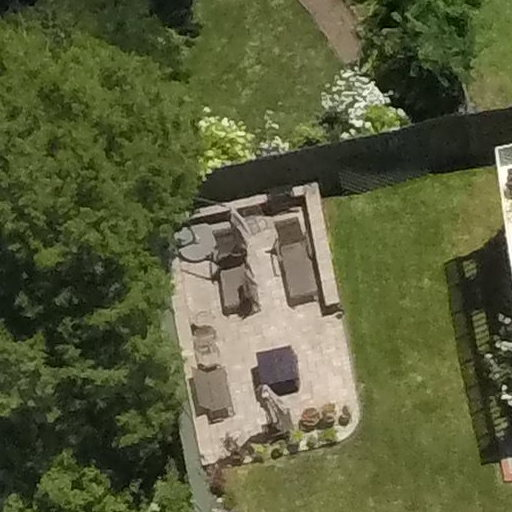flower pot: (295, 405, 321, 432), (319, 403, 339, 426), (321, 430, 340, 447), (285, 438, 302, 456), (340, 405, 352, 428), (270, 449, 285, 462)
